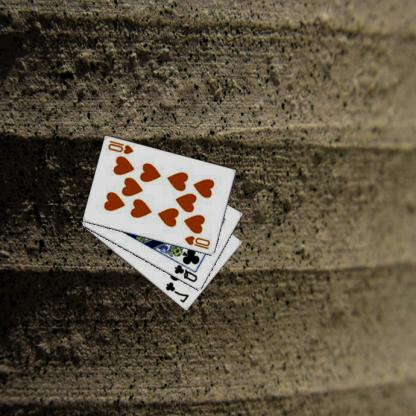10H: (184, 233, 213, 251), (108, 138, 136, 156)
7C: (164, 280, 192, 304)
QC: (174, 262, 200, 284)
